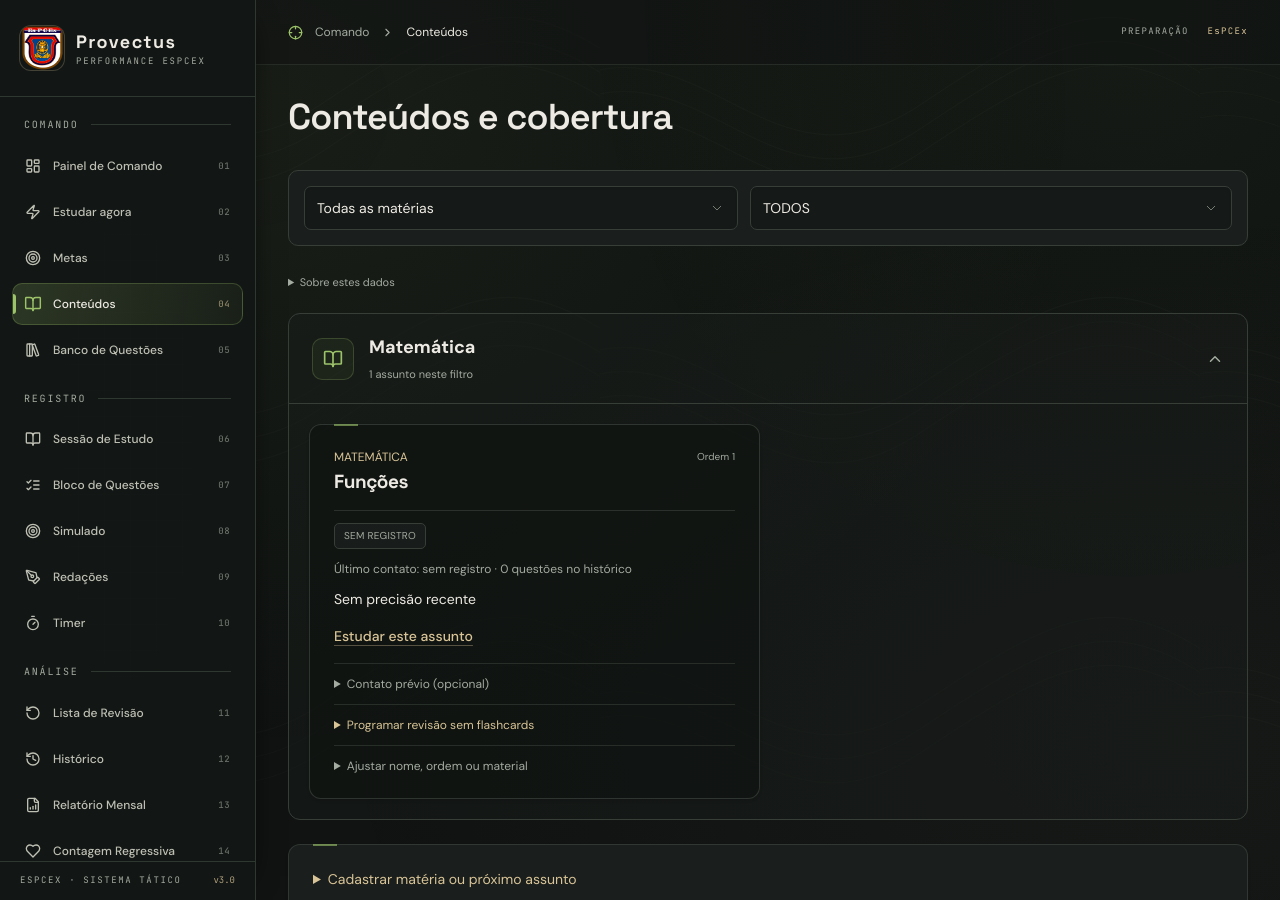
Test: Redesign preserves study workflows › catalog disclosure keeps all topic actions and the original status filter
Expected: the heading "Funções" is shown, [334,469,408,496]
Step 1. Select "PRÁTICA REGISTRADA" in the dropdown named "Filtrar cobertura" → (991, 208), box [750,186,1232,230]
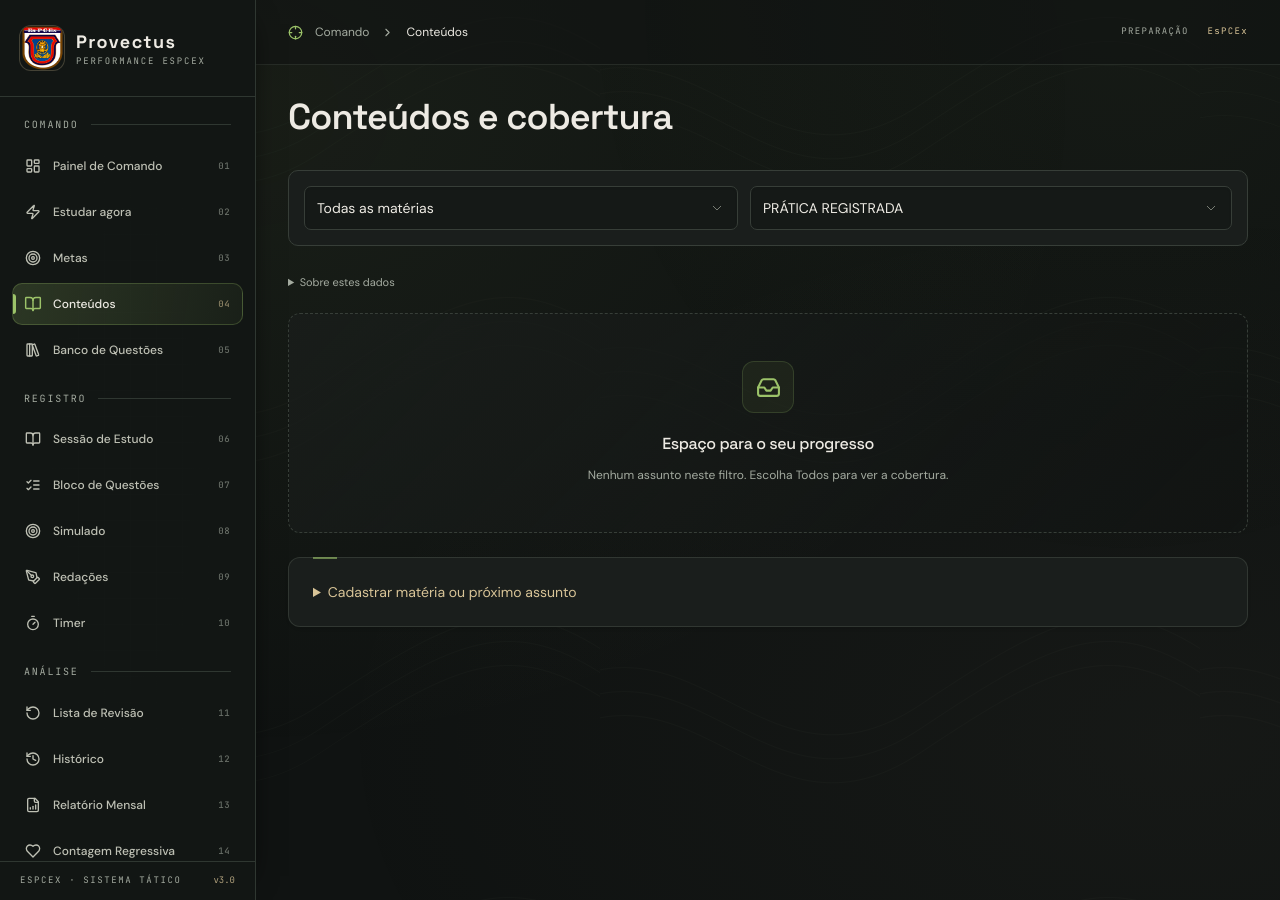
Result: the text "Nenhum assunto neste filtro. Escolha Todos para ver a cobertura." is shown at [588,465,948,486]
Step 2. Select "TODOS" in the dropdown named "Filtrar cobertura" → (991, 208), box [750,186,1232,230]
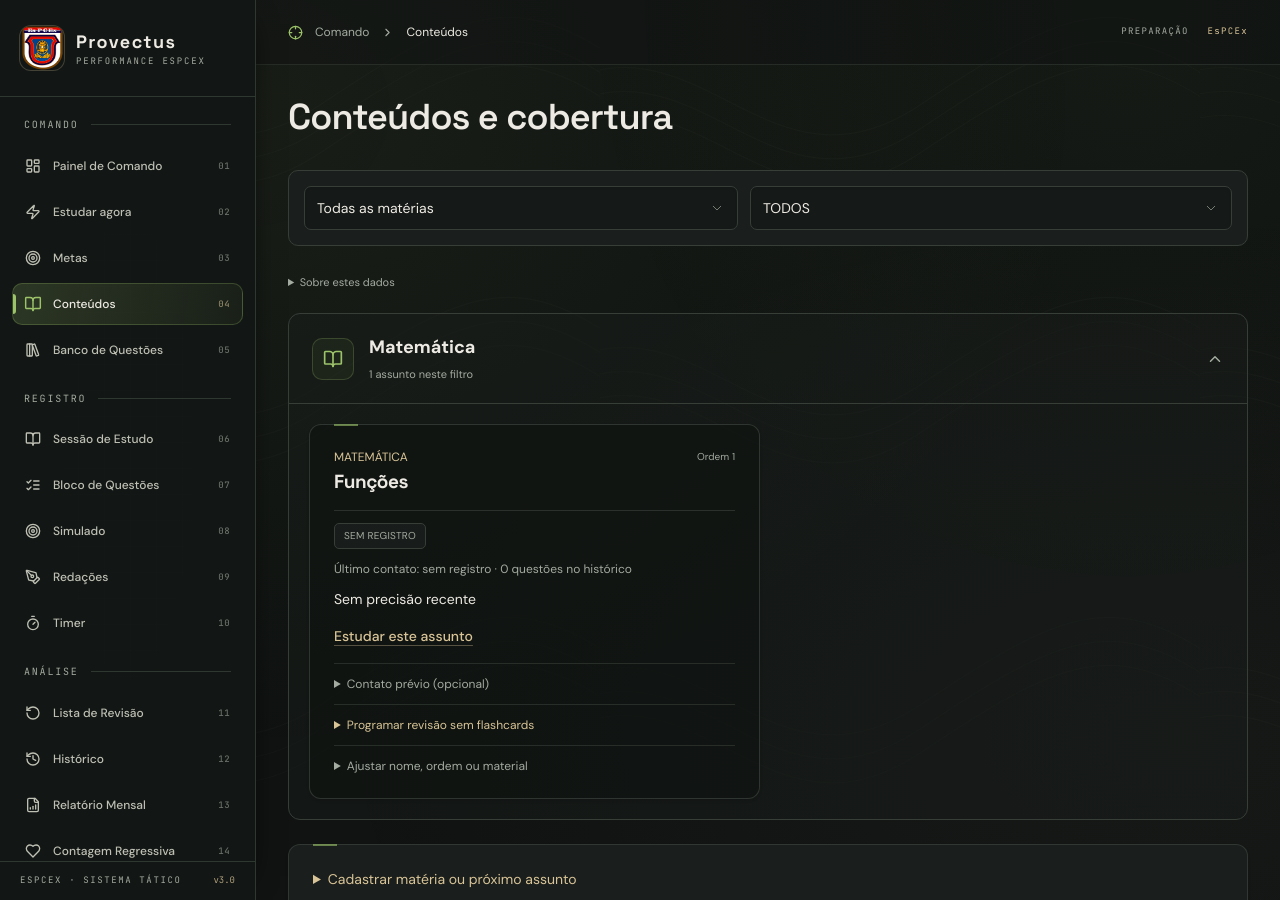
Result: the heading "Funções" is shown at [334,469,408,496]
